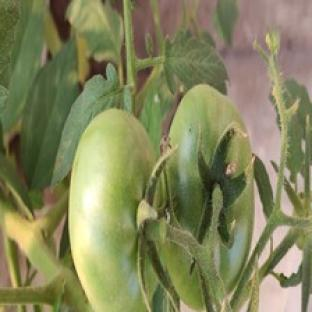Tomato: (69, 109, 155, 311), (168, 85, 252, 235)
